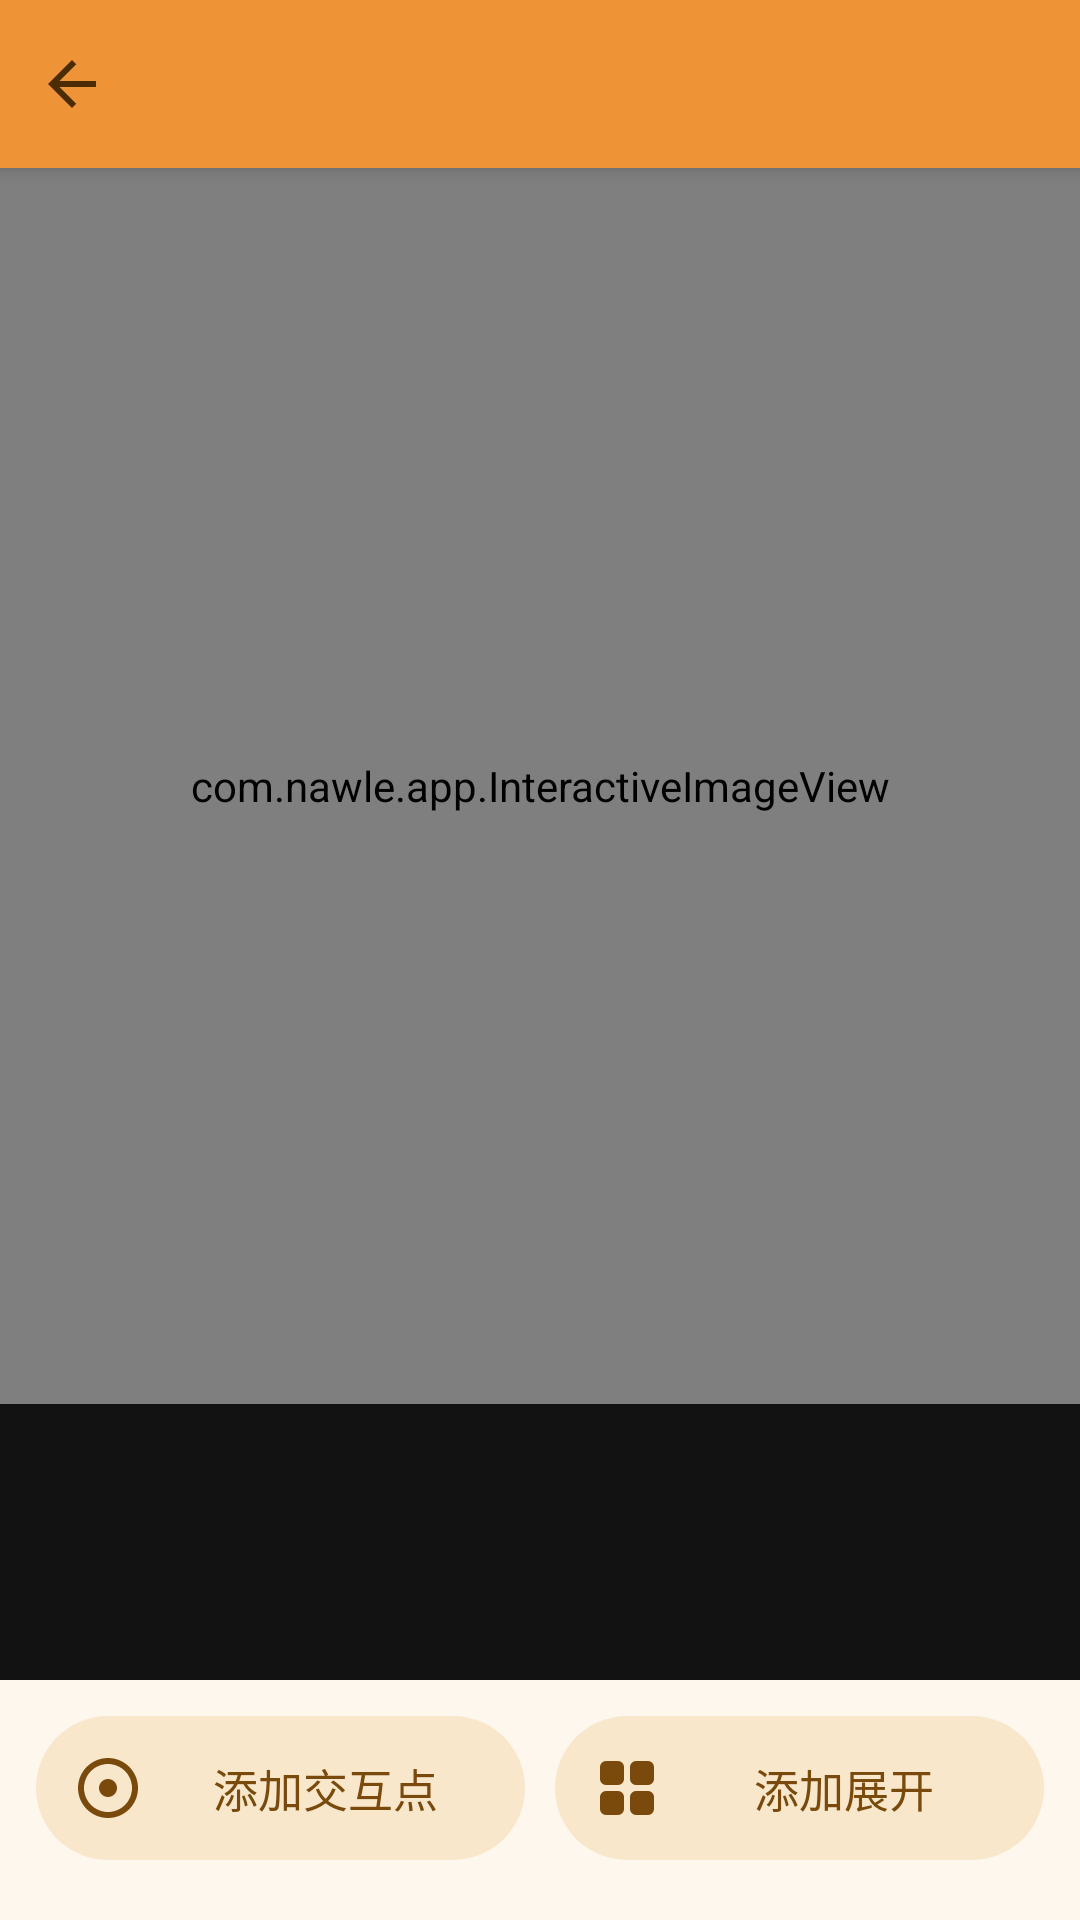

Screen size 1080 × 1920. Icon name, then its box in pixels as (x1, y1, x2, y2):
返回上一级: (48, 60, 96, 108)
